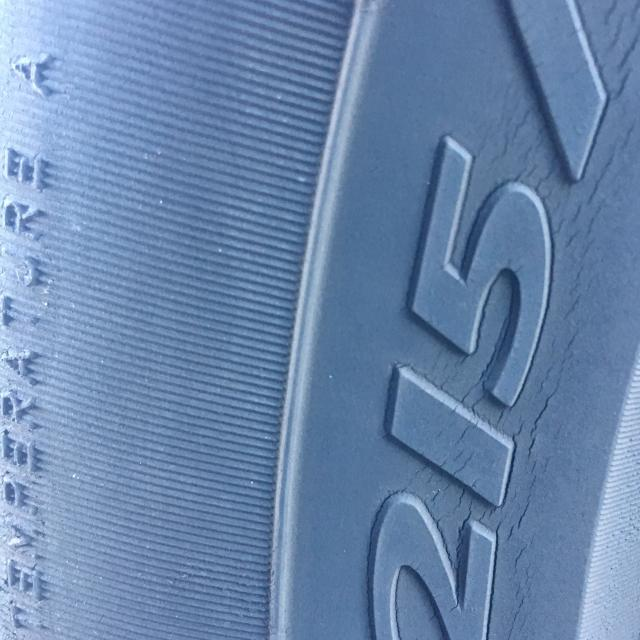Cracks: (363, 0, 640, 640)
Non-defective: (0, 0, 340, 640)
